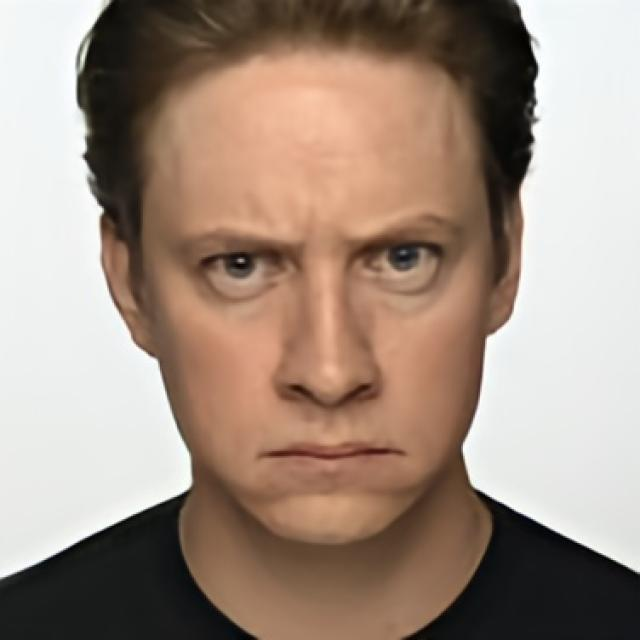anger: (143, 52, 490, 546)
